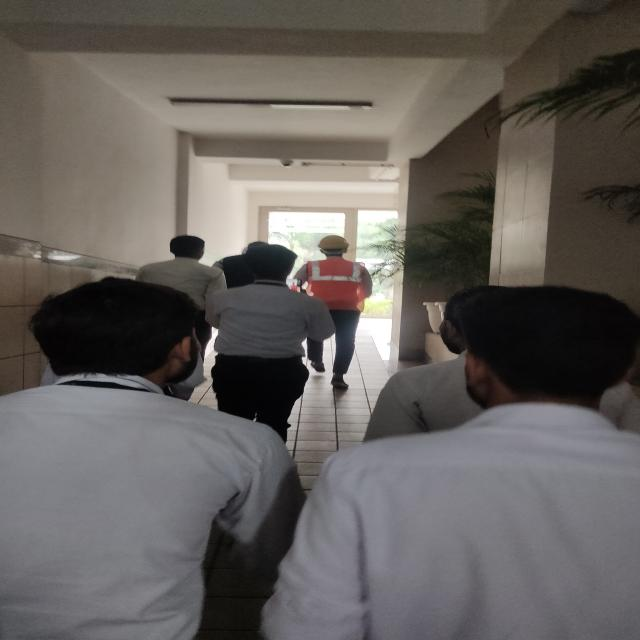safe: (298, 234, 370, 390)
unsafe: (1, 276, 229, 448), (232, 247, 308, 438), (134, 230, 230, 294)
